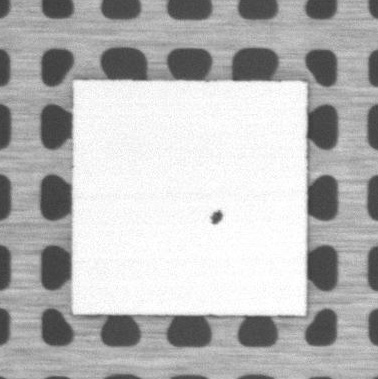DIE_INK: (210, 210, 224, 224)
